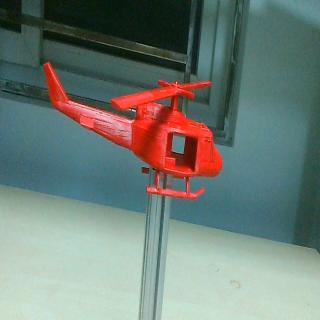Helicopter: (42, 58, 224, 200)
